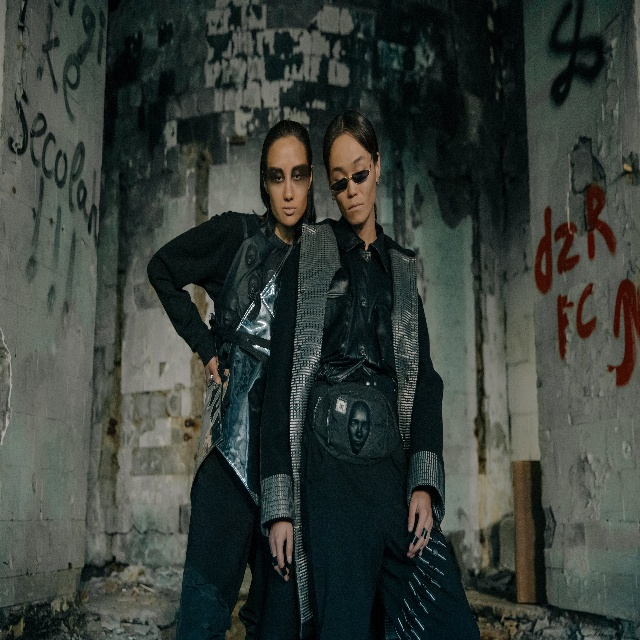Gafas: (329, 171, 368, 190)
Sin_guantes: (405, 493, 433, 558), (267, 520, 295, 577), (203, 353, 221, 383)
